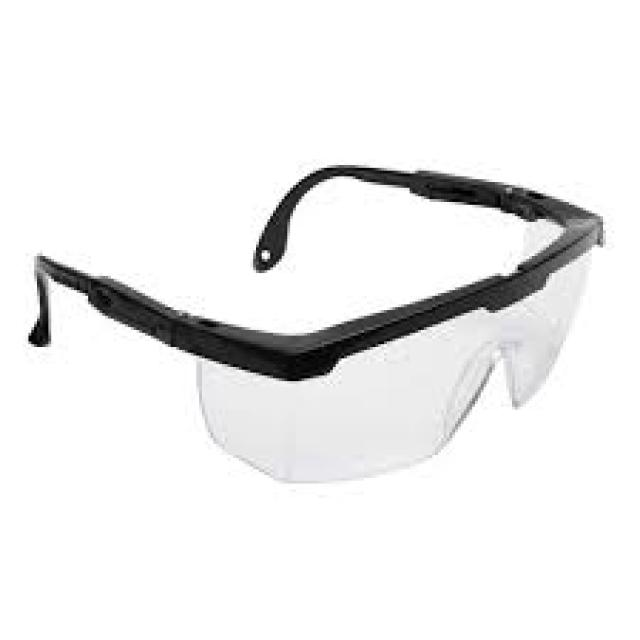oculos-epi: (29, 163, 605, 483)
